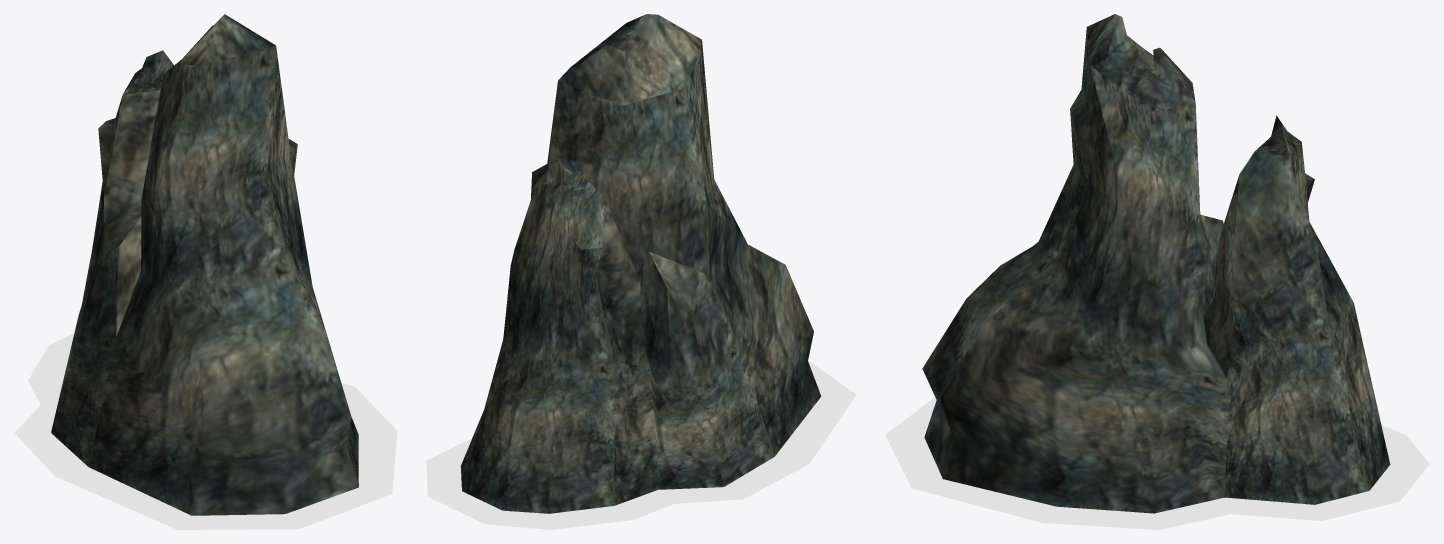
File: pir_m_prp_ocn_rock_b.fbx
3 views of the same model, side by side, from view 1: azimuth 30°, elevation 25°; view 2: azimuth 150°, elevation 25°; view 3: azimuth 270°, elevation 25° (orthographic). The views are drawn at different scales.
Visible parts, largest first — view 1: rock, wave; view 2: rock, wave; view 3: rock, wave.
Part boxes in pixels (x1=…): rock: x1=51, y1=14, x2=358, y2=515; wave: x1=14, y1=333, x2=397, y2=529; rock: x1=460, y1=14, x2=821, y2=513; wave: x1=426, y1=360, x2=856, y2=529; rock: x1=922, y1=14, x2=1390, y2=513; wave: x1=885, y1=397, x2=1429, y2=529.
Size of the model in its own units: 3748 by 4868 by 5374.
Materials: 2 (2 with a texture image).
